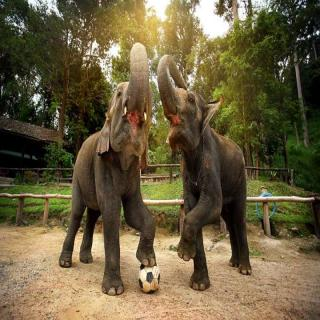Elephant: (57, 41, 156, 297), (156, 51, 253, 294)
